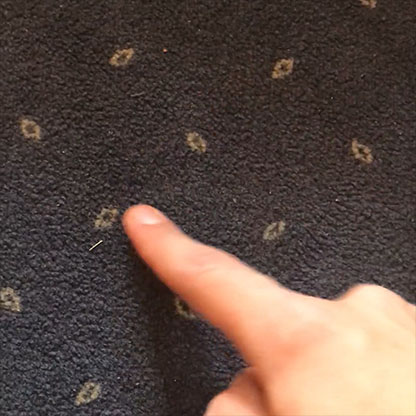fingertip: (111, 193, 178, 249)
